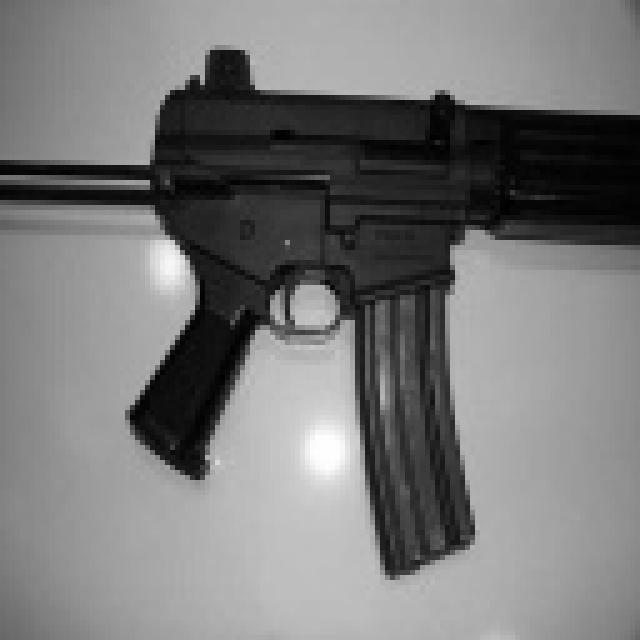Rifle: (0, 19, 640, 592)
